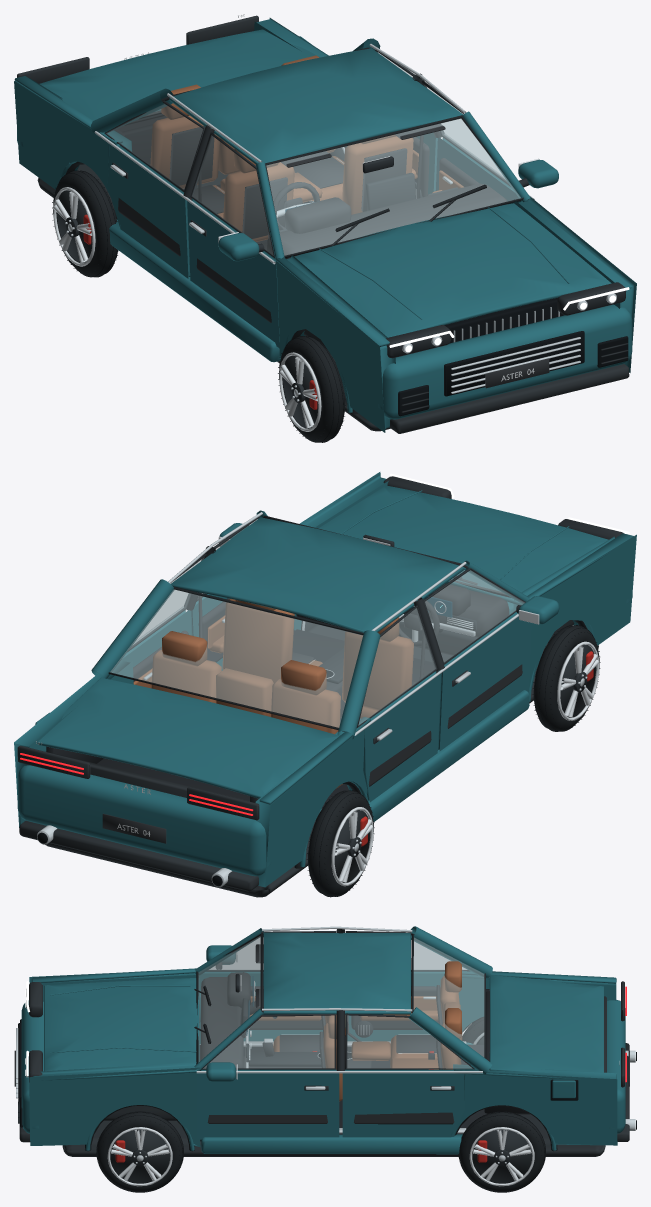
File: aster_sedan_low.glb
3 renders of one model, top to bottom at view 1: azimuth 30°, elevation 25°; view 2: azimuth 150°, elevation 25°; view 3: azimuth 270°, elevation 25°, orthographic. The views are drawn at different scales.
Visible parts, largest first — view 1: Aster_Sedan__Paint_DeepPetrol_MetallicClearcoat, Hood__Paint_DeepPetrol_MetallicClearcoat, Aster_Sedan__Glass_Laminated_Smoke, Aster_Sedan__Leather_Charcoal, Aster_Sedan__Trim_SatinGraphite, Trunk__Paint_DeepPetrol_MetallicClearcoat, Aster_Sedan__Leather_Saddle, Door_FL__Paint_DeepPetrol_MetallicClearcoat, Aster_Sedan__Cavity_Black, Door_RL__Paint_DeepPetrol_MetallicClearcoat, Door_FL__Glass_Laminated_Smoke, Door_RL__Glass_Laminated_Smoke (+16 smaller); view 2: Aster_Sedan__Paint_DeepPetrol_MetallicClearcoat, Trunk__Paint_DeepPetrol_MetallicClearcoat, Aster_Sedan__Glass_Laminated_Smoke, Aster_Sedan__Leather_Saddle, Hood__Paint_DeepPetrol_MetallicClearcoat, Aster_Sedan__Trim_SatinGraphite, Door_FL__Paint_DeepPetrol_MetallicClearcoat, Door_RL__Paint_DeepPetrol_MetallicClearcoat, Door_FL__Glass_Laminated_Smoke, Aster_Sedan__Leather_Charcoal, Door_RL__Glass_Laminated_Smoke, Aster_Sedan__Carpet_Anthracite (+16 smaller); view 3: Aster_Sedan__Paint_DeepPetrol_MetallicClearcoat, Hood__Paint_DeepPetrol_MetallicClearcoat, Trunk__Paint_DeepPetrol_MetallicClearcoat, Aster_Sedan__Glass_Laminated_Smoke, Door_FR__Paint_DeepPetrol_MetallicClearcoat, Aster_Sedan__Trim_SatinGraphite, Door_RR__Paint_DeepPetrol_MetallicClearcoat, Aster_Sedan__Leather_Charcoal, Door_FR__Glass_Laminated_Smoke, Door_RR__Glass_Laminated_Smoke, Aster_Sedan__Leather_Saddle, Wheel_FR__Rubber_Tire (+24 smaller).
Part boxes in pixels (x1=…): Aster_Sedan__Paint_DeepPetrol_MetallicClearcoat: x1=14, y1=18, x2=636, y2=432; Hood__Paint_DeepPetrol_MetallicClearcoat: x1=286, y1=202, x2=611, y2=337; Aster_Sedan__Glass_Laminated_Smoke: x1=147, y1=109, x2=520, y2=255; Aster_Sedan__Leather_Charcoal: x1=169, y1=124, x2=549, y2=388; Aster_Sedan__Trim_SatinGraphite: x1=17, y1=15, x2=629, y2=433; Trunk__Paint_DeepPetrol_MetallicClearcoat: x1=39, y1=29, x2=320, y2=120; Aster_Sedan__Leather_Saddle: x1=150, y1=55, x2=413, y2=241; Door_FL__Paint_DeepPetrol_MetallicClearcoat: x1=187, y1=198, x2=279, y2=348; Aster_Sedan__Cavity_Black: x1=302, y1=201, x2=628, y2=416; Door_RL__Paint_DeepPetrol_MetallicClearcoat: x1=107, y1=144, x2=190, y2=278; Door_FL__Glass_Laminated_Smoke: x1=192, y1=135, x2=273, y2=255; Door_RL__Glass_Laminated_Smoke: x1=106, y1=104, x2=202, y2=189; Aster_Sedan__Paint_DeepPetrol_MetallicClearcoat: x1=14, y1=472, x2=636, y2=887; Trunk__Paint_DeepPetrol_MetallicClearcoat: x1=37, y1=677, x2=339, y2=798; Aster_Sedan__Glass_Laminated_Smoke: x1=110, y1=570, x2=503, y2=727; Aster_Sedan__Leather_Saddle: x1=151, y1=599, x2=413, y2=788; Hood__Paint_DeepPetrol_MetallicClearcoat: x1=318, y1=485, x2=608, y2=605; Aster_Sedan__Trim_SatinGraphite: x1=17, y1=476, x2=623, y2=897; Door_FL__Paint_DeepPetrol_MetallicClearcoat: x1=438, y1=596, x2=559, y2=751; Door_RL__Paint_DeepPetrol_MetallicClearcoat: x1=363, y1=671, x2=440, y2=802; Door_FL__Glass_Laminated_Smoke: x1=425, y1=570, x2=524, y2=662; Aster_Sedan__Leather_Charcoal: x1=102, y1=583, x2=509, y2=843; Door_RL__Glass_Laminated_Smoke: x1=358, y1=608, x2=435, y2=725; Aster_Sedan__Carpet_Anthracite: x1=46, y1=629, x2=438, y2=820; Aster_Sedan__Paint_DeepPetrol_MetallicClearcoat: x1=21, y1=926, x2=625, y2=1154; Hood__Paint_DeepPetrol_MetallicClearcoat: x1=44, y1=976, x2=199, y2=1071; Trunk__Paint_DeepPetrol_MetallicClearcoat: x1=489, y1=975, x2=603, y2=1072; Aster_Sedan__Glass_Laminated_Smoke: x1=198, y1=936, x2=484, y2=1061; Door_FR__Paint_DeepPetrol_MetallicClearcoat: x1=196, y1=1062, x2=339, y2=1139; Aster_Sedan__Trim_SatinGraphite: x1=18, y1=929, x2=629, y2=1156; Door_RR__Paint_DeepPetrol_MetallicClearcoat: x1=342, y1=1069, x2=465, y2=1137; Aster_Sedan__Leather_Charcoal: x1=14, y1=944, x2=629, y2=1086; Door_FR__Glass_Laminated_Smoke: x1=203, y1=1015, x2=334, y2=1068; Door_RR__Glass_Laminated_Smoke: x1=347, y1=1015, x2=472, y2=1068; Aster_Sedan__Leather_Saddle: x1=273, y1=961, x2=462, y2=1101; Wheel_FR__Rubber_Tire: x1=96, y1=1112, x2=183, y2=1192.
Bounding box in the file's own units: 2.36 × 1.51 × 4.85.
